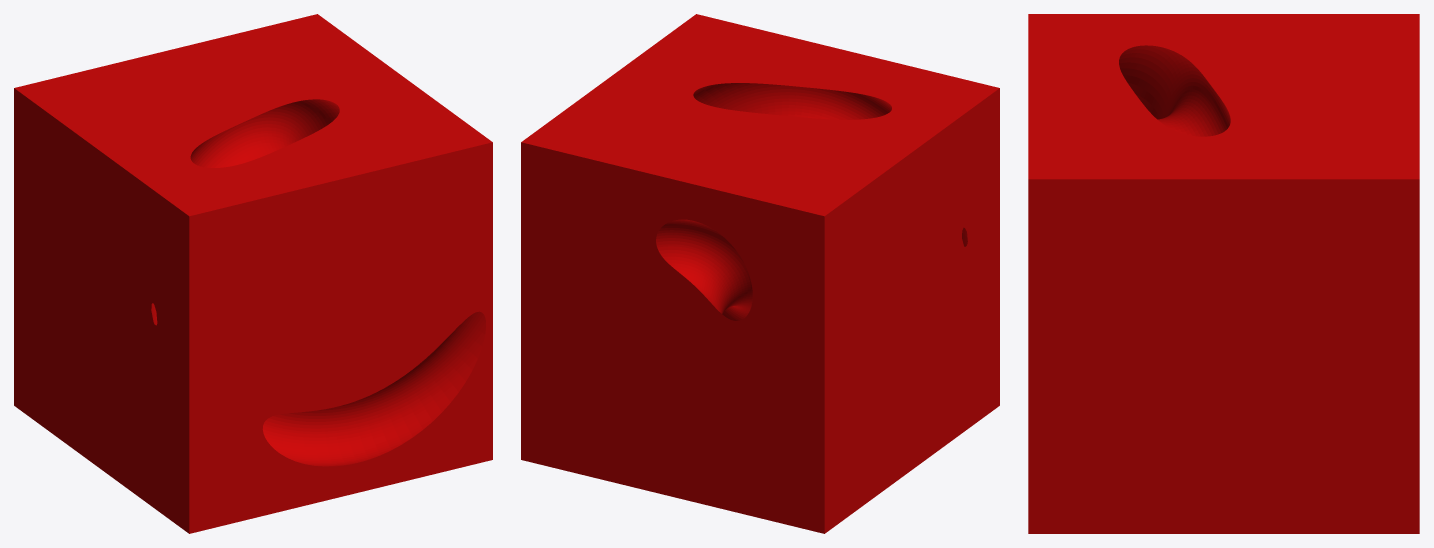
File: TestCubewithhole10x10x10mm-23.glb
The picture shows the model from 3 angles, left to right: view 1: azimuth 30°, elevation 25°; view 2: azimuth 150°, elevation 25°; view 3: azimuth 270°, elevation 25°; orthographic projection. The views are drawn at different scales.
Bounding box in the file's own units: 100 × 100 × 100.
